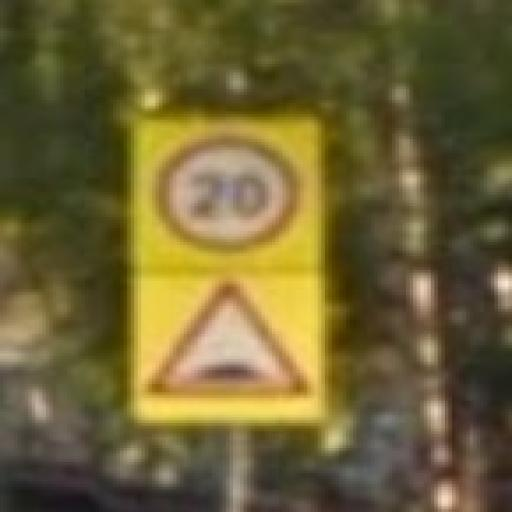traffic_sign: (146, 277, 315, 402), (157, 135, 309, 257)
